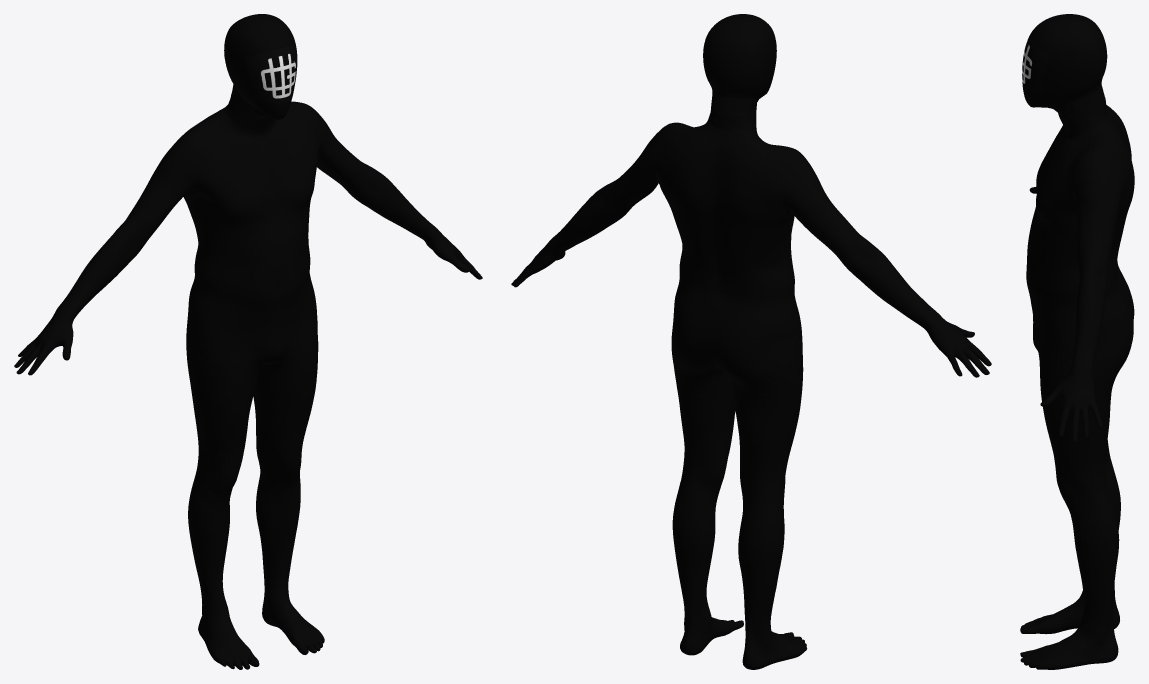
File: AvatarM.glb
3 renders of one model, left to right at view 1: azimuth 30°, elevation 25°; view 2: azimuth 150°, elevation 25°; view 3: azimuth 270°, elevation 25°, orthographic.
Parts seen in each view (by area): view 1: M00079107260012700671000020004900133101911083700058b.ply; view 2: M00079107260012700671000020004900133101911083700058b.ply; view 3: M00079107260012700671000020004900133101911083700058b.ply.
Boxes of the visible parts, x1,y1,x2,y2 form: M00079107260012700671000020004900133101911083700058b.ply: (14, 14, 482, 669); M00079107260012700671000020004900133101911083700058b.ply: (511, 14, 991, 669); M00079107260012700671000020004900133101911083700058b.ply: (1020, 14, 1134, 669).
Size of the model in its own units: 1.43 by 1.83 by 0.301.
1 material, 1 textured.
